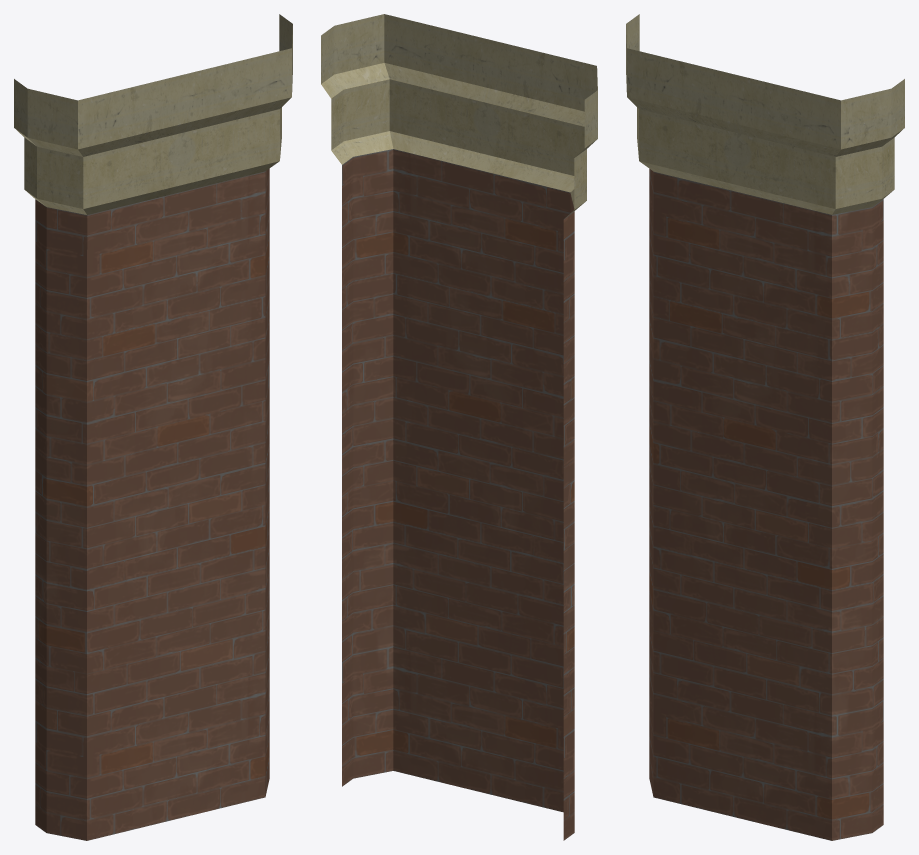
Rendered from Brick_HalfColumn_Top.gltf.
3 views of the same model, side by side, from view 1: azimuth 30°, elevation 25°; view 2: azimuth 150°, elevation 25°; view 3: azimuth 330°, elevation 25° (orthographic).
Parts seen in each view (by area): view 1: Brick_HalfColumn_Top; view 2: Brick_HalfColumn_Top; view 3: Brick_HalfColumn_Top.
Boxes of the visible parts, x1,y1,x2,y2 form: Brick_HalfColumn_Top: [14, 14, 292, 840]; Brick_HalfColumn_Top: [321, 14, 597, 840]; Brick_HalfColumn_Top: [626, 14, 904, 840].
Size of the model in its own units: 1.11 by 3 by 0.2763.
Materials: 2 (2 with a texture image).
